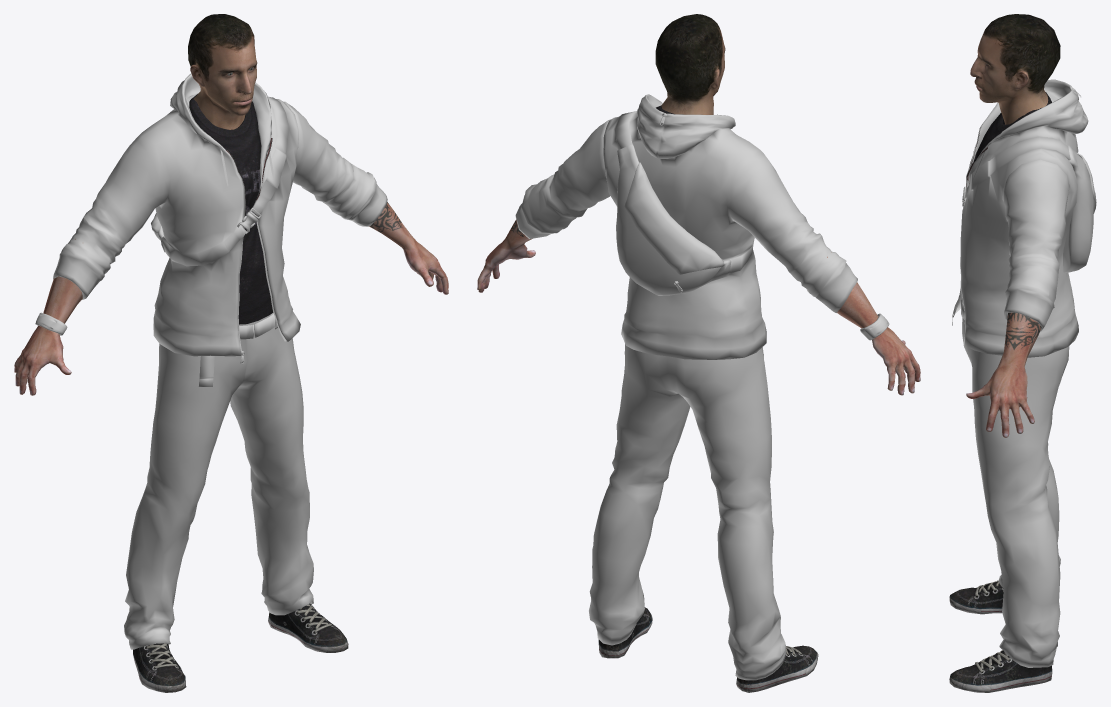
The model's file is Desmond_Miles.obj.
3 renders of one model, left to right at view 1: azimuth 30°, elevation 25°; view 2: azimuth 150°, elevation 25°; view 3: azimuth 270°, elevation 25°, orthographic. The views are drawn at different scales.
Size of the model in its own units: 2.6 by 3.71 by 0.7864.
